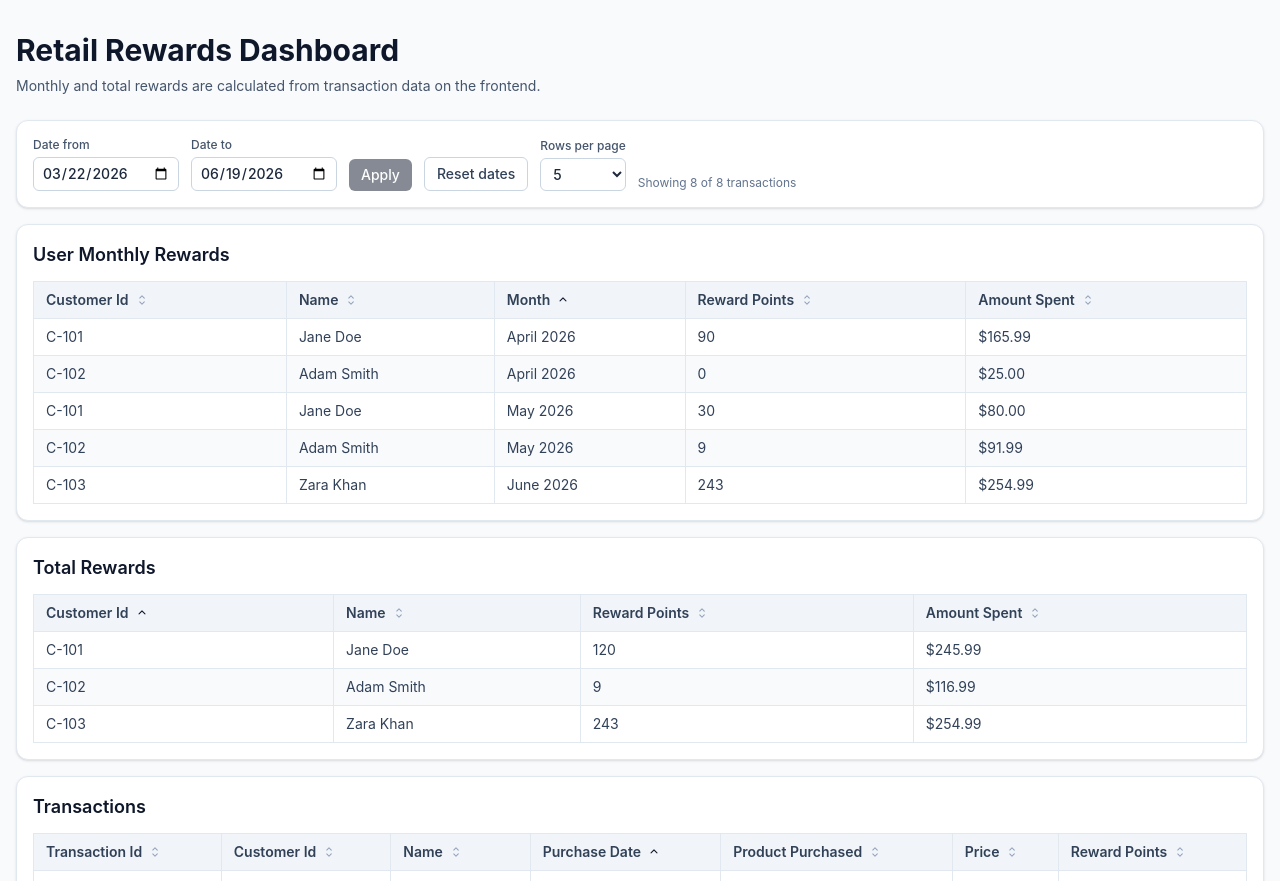
Test: App › hides the warning and re-enables Apply when the date range becomes valid
The image size is (1280, 881).
Type "2026-01-01" into the date field labelled "Date from" at [106, 174], box [33,157,179,191]
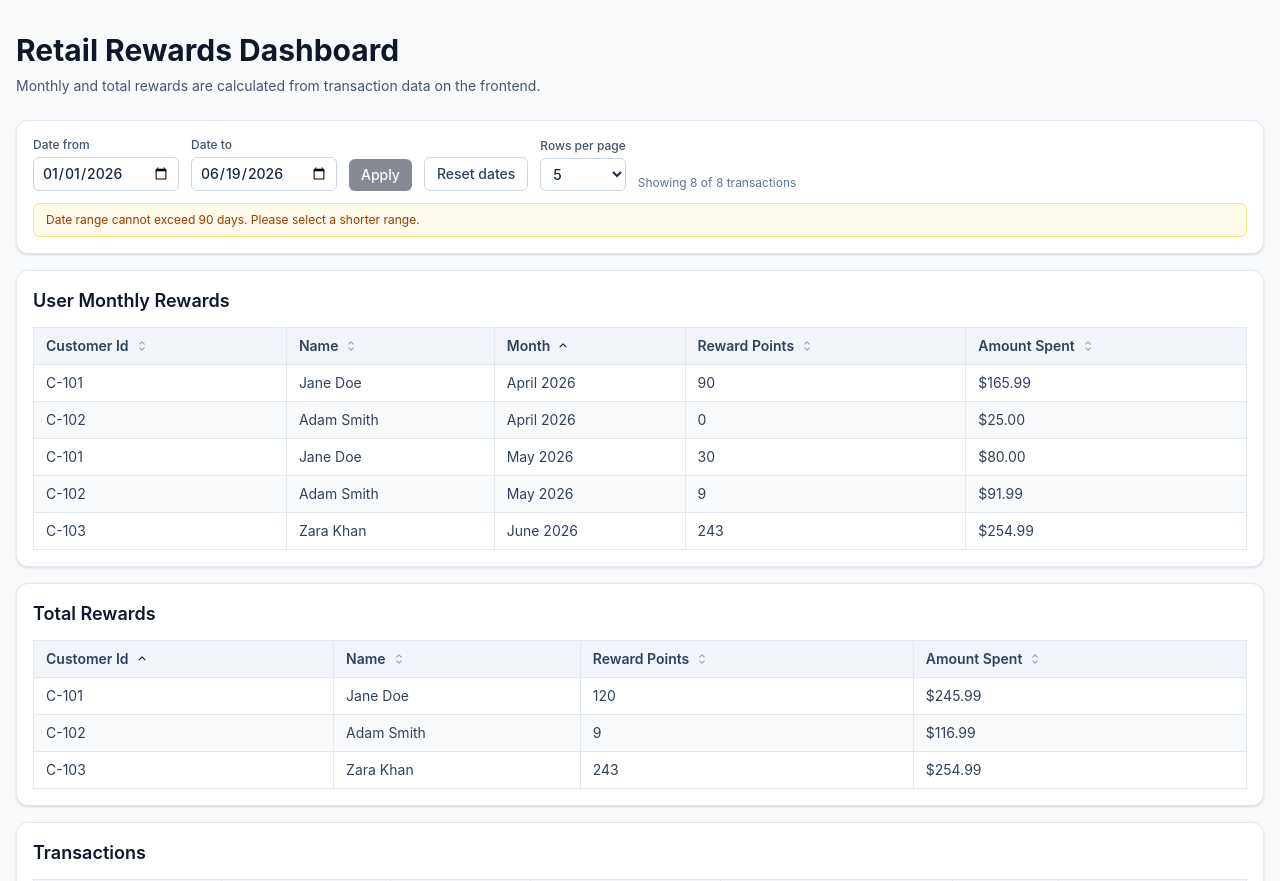
Type "2026-06-09" into the date field labelled "Date to" at [264, 174], box [191,157,337,191]
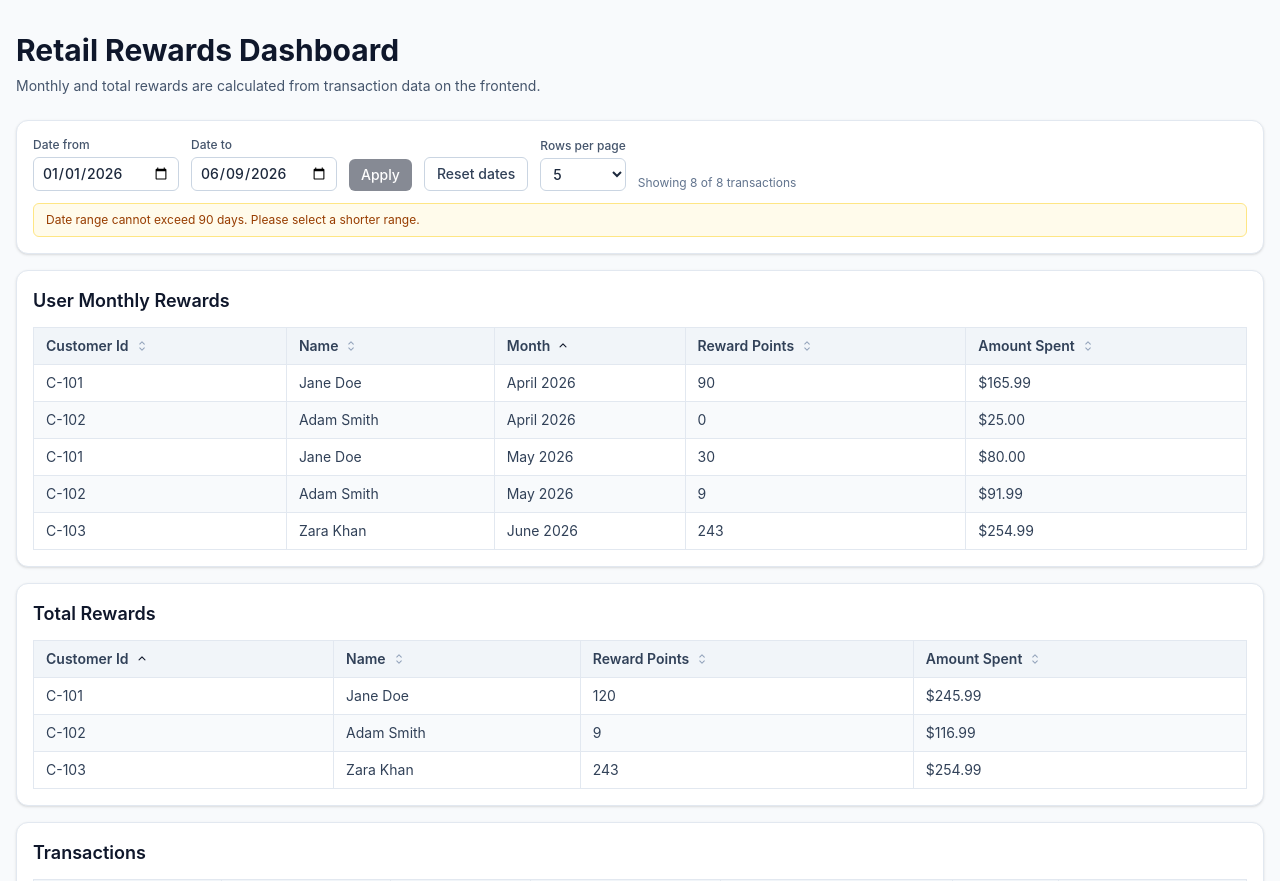
Expected: the button "Apply" is disabled, [349,159,412,191]
Type "2026-03-01" into the date field labelled "Date to" at [264, 174], box [191,157,337,191]
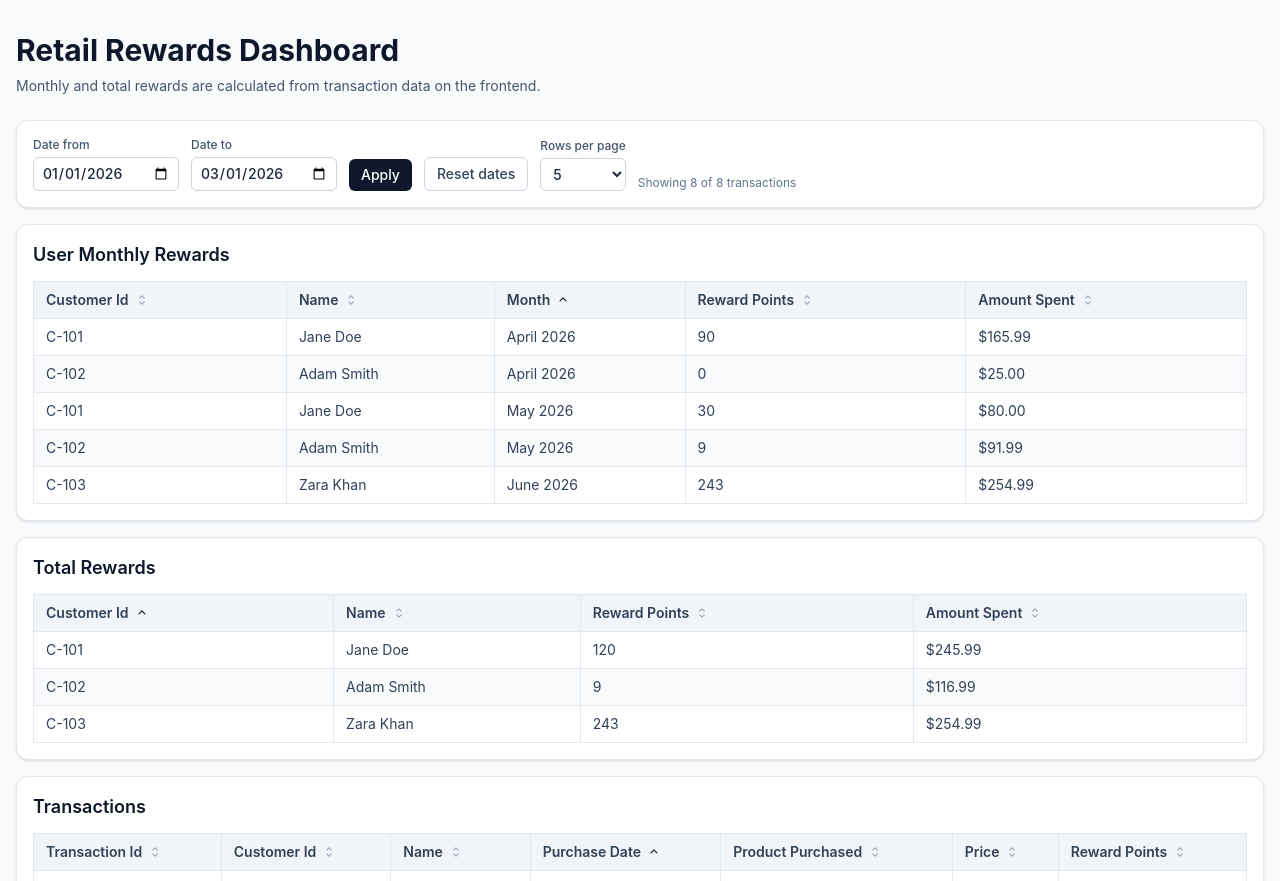
Result: the text "Date range cannot exceed 90 days. Please select a shorter range." is gone
Result: the button "Apply" is enabled at [349,159,412,191]
